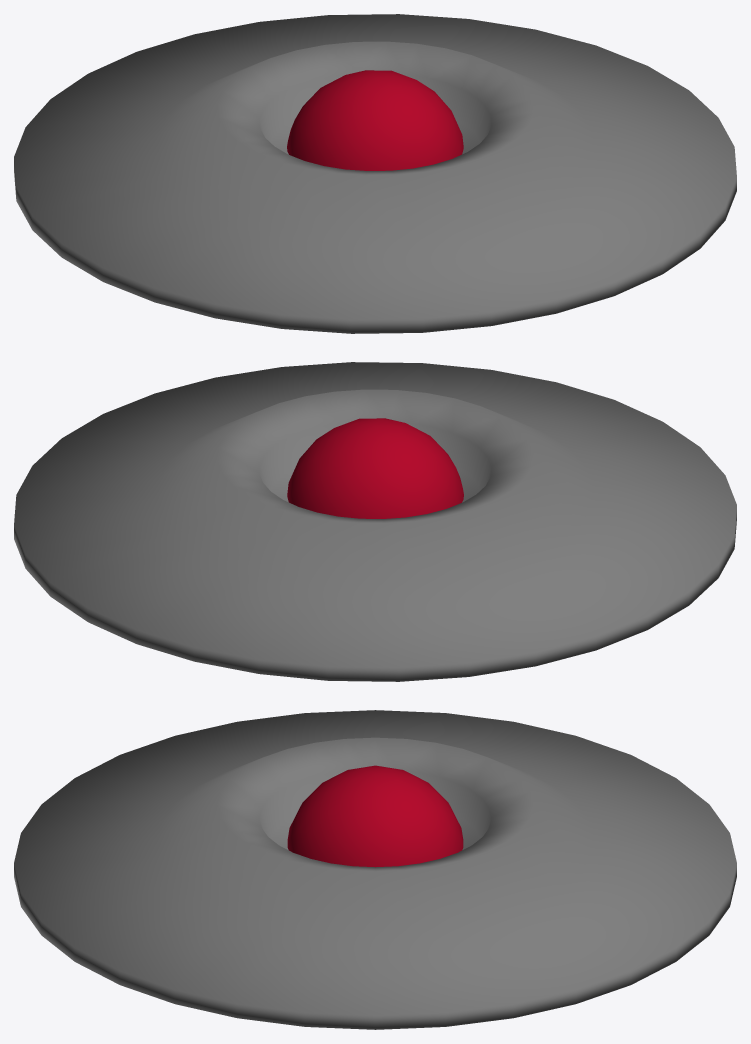
The model's file is Toroid.fbx.
3 views of the same model, one above another, from view 1: azimuth 30°, elevation 25°; view 2: azimuth 150°, elevation 25°; view 3: azimuth 270°, elevation 25° (orthographic).
Visible parts, largest first — view 1: Toroid; view 2: Toroid; view 3: Toroid.
Part boxes in pixels (bbox=[...]): Toroid: bbox=[14, 14, 736, 333]; Toroid: bbox=[14, 362, 736, 681]; Toroid: bbox=[14, 710, 736, 1029].
Size of the model in its own units: 2 by 0.5 by 2.
